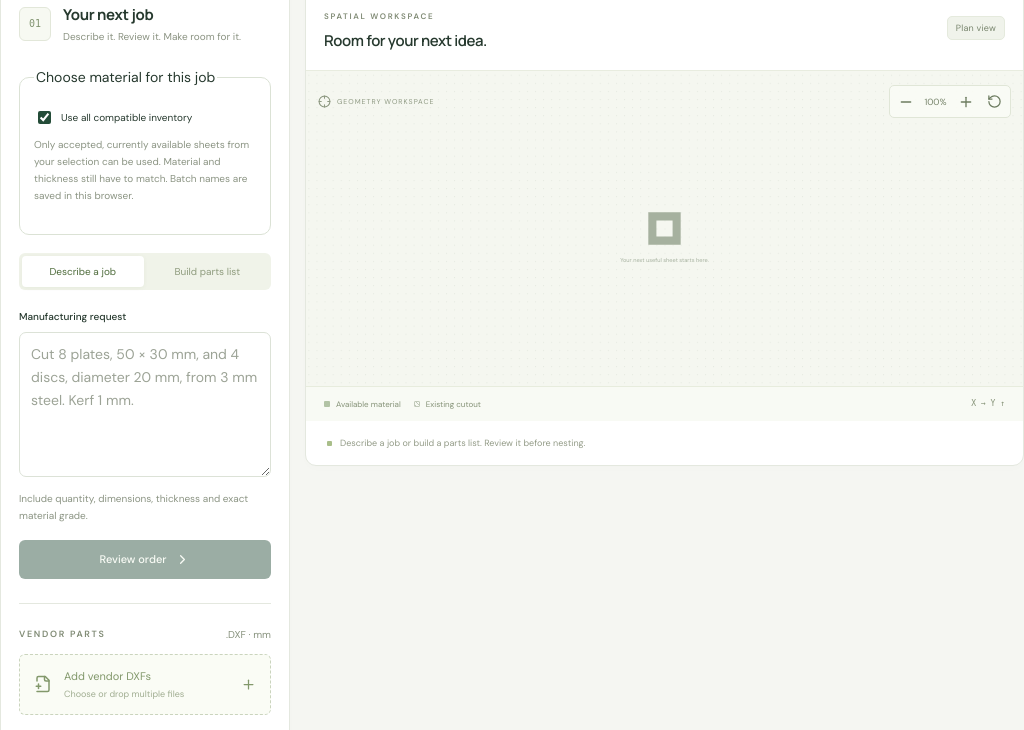
Test: order workflow › shows partial placement and never offers a stock update for it
In the text box labelled "Manufacturing request": (145, 404) [19,332,271,477], type "Make 2 discs diameter 20mm in 3mm ss304, kerf 1mm"
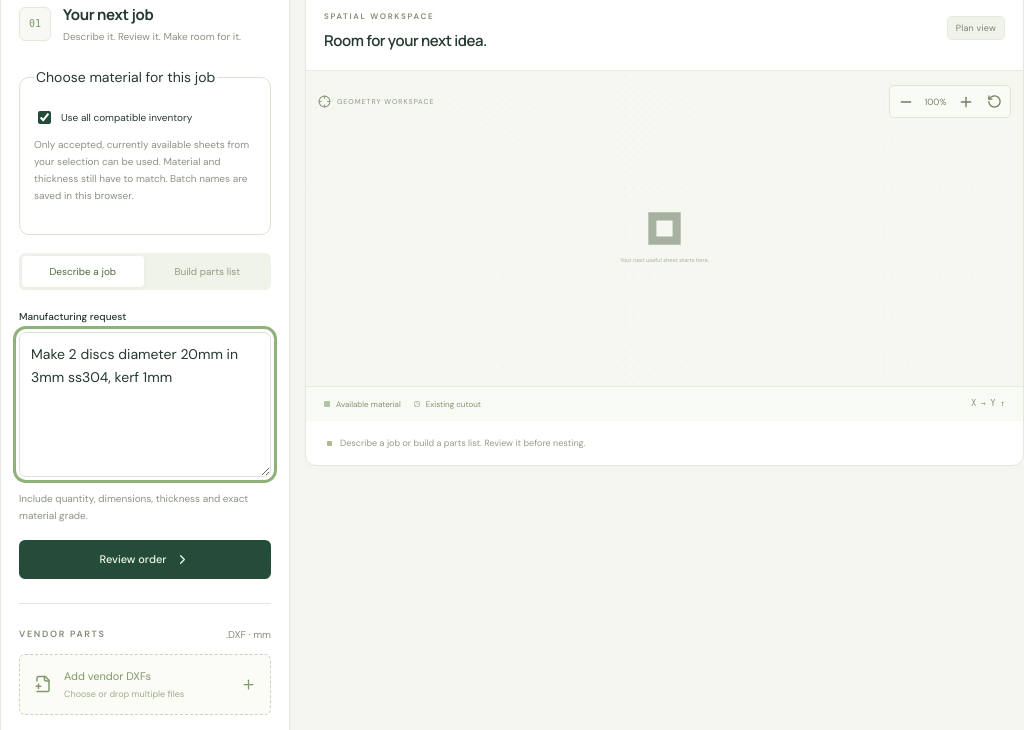
Click the button "Review order": (145, 559) [19,540,271,579]
(page scrolled)
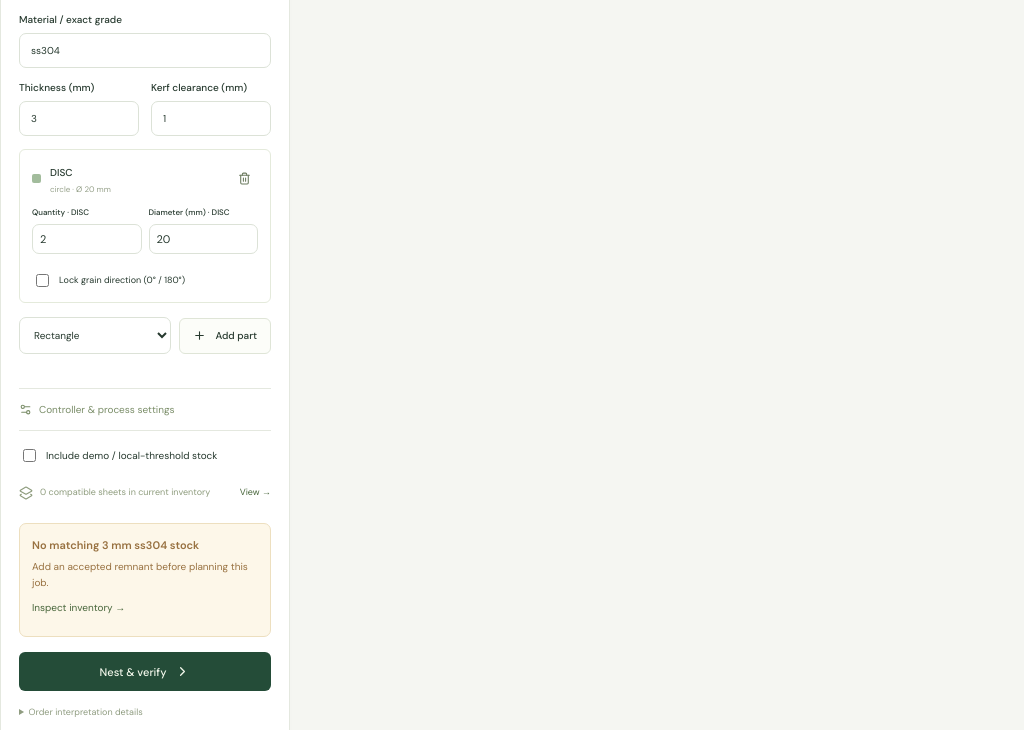
Expected: the number field labelled "Quantity · DISC" is shown, [32,224,142,254]
Click the button "Nest & verify": (145, 672) [19,652,271,691]
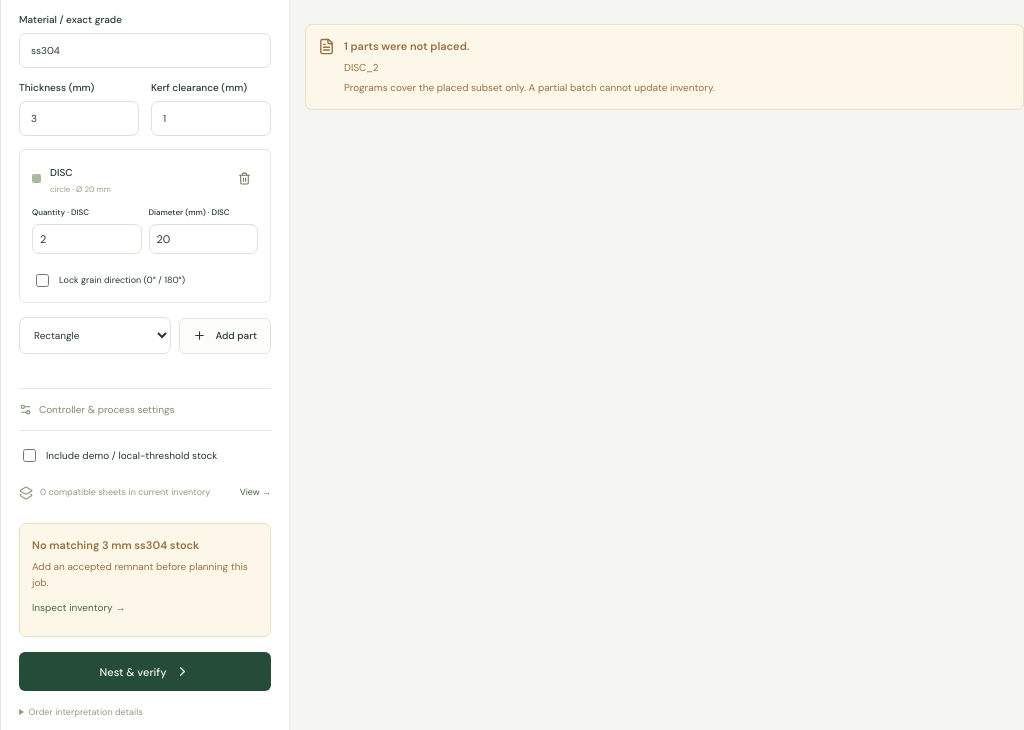
Expected: the text "Programs cover the placed subset only" is shown, [344,81,715,94]
